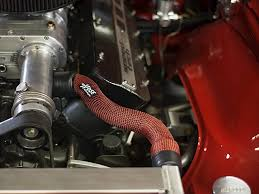radiator_hose: (73, 73, 181, 165)
